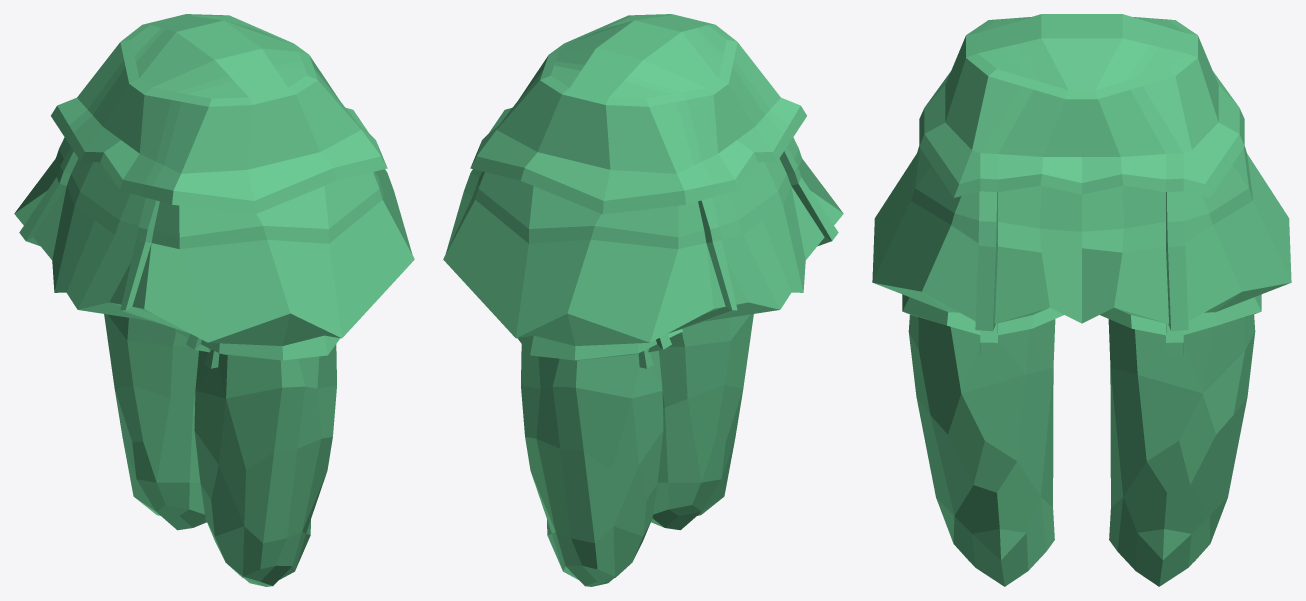
The model's file is hips_variant-3.glb.
3 renders of one model, left to right at view 1: azimuth 30°, elevation 25°; view 2: azimuth 150°, elevation 25°; view 3: azimuth 270°, elevation 25°, orthographic. The views are drawn at different scales.
Parts seen in each view (by area): view 1: bottom-4; view 2: bottom-4; view 3: bottom-4.
Part boxes in pixels (box(x1,y1,x2,y2)): bottom-4: box(14, 14, 414, 586); bottom-4: box(443, 14, 843, 586); bottom-4: box(872, 14, 1291, 586).
Bounding box in the file's own units: 1.21 × 1.98 × 1.38.
